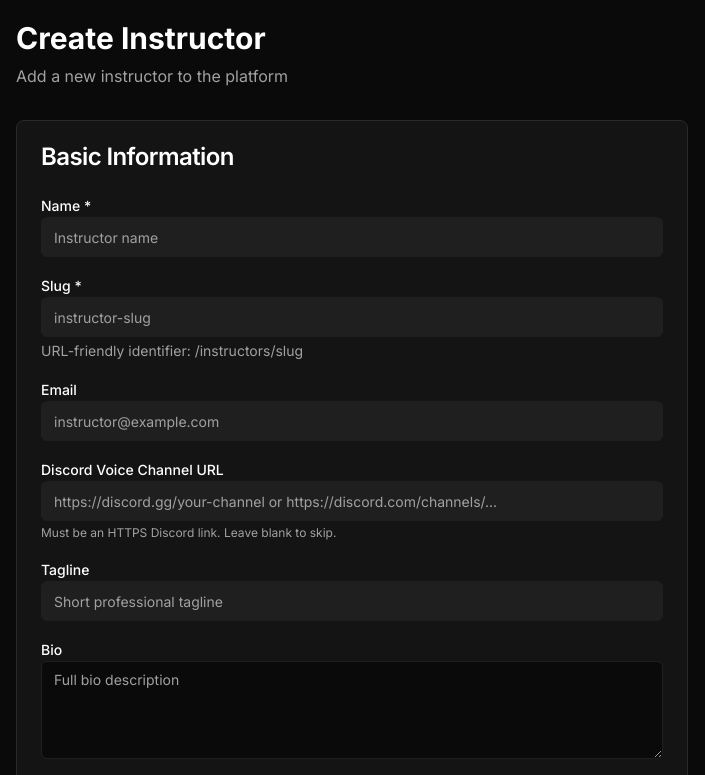
Test case: CreateInstructorPage › displays API error message when creation fails
The width and height of the screenshot is (705, 775).
Type "Jane Doe" into the field labelled "Name *" at (352, 237), box [41, 217, 663, 257]
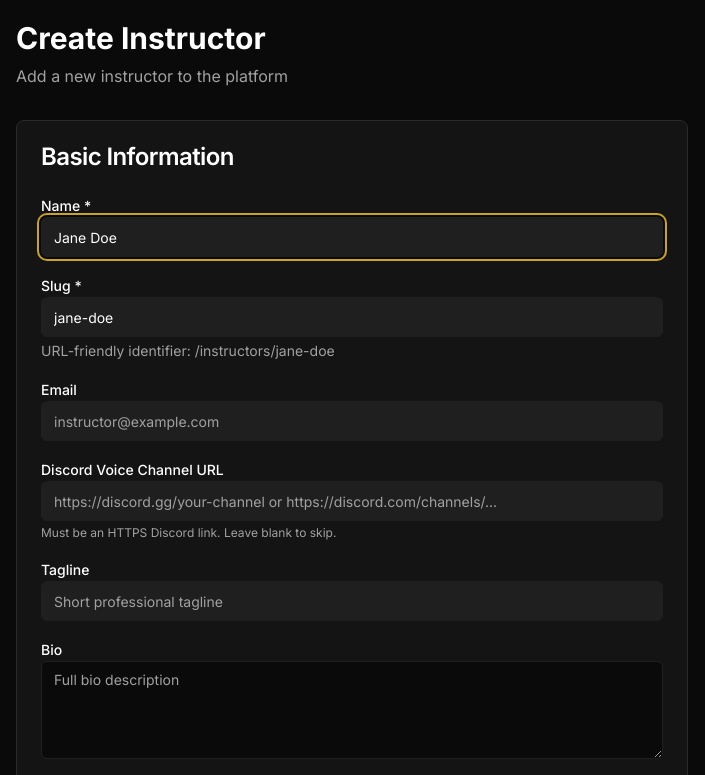
Type "https://discord.gg/example" into the field labelled "Discord Voice Channel URL" at (352, 501), box [41, 481, 663, 521]
(page scrolled)
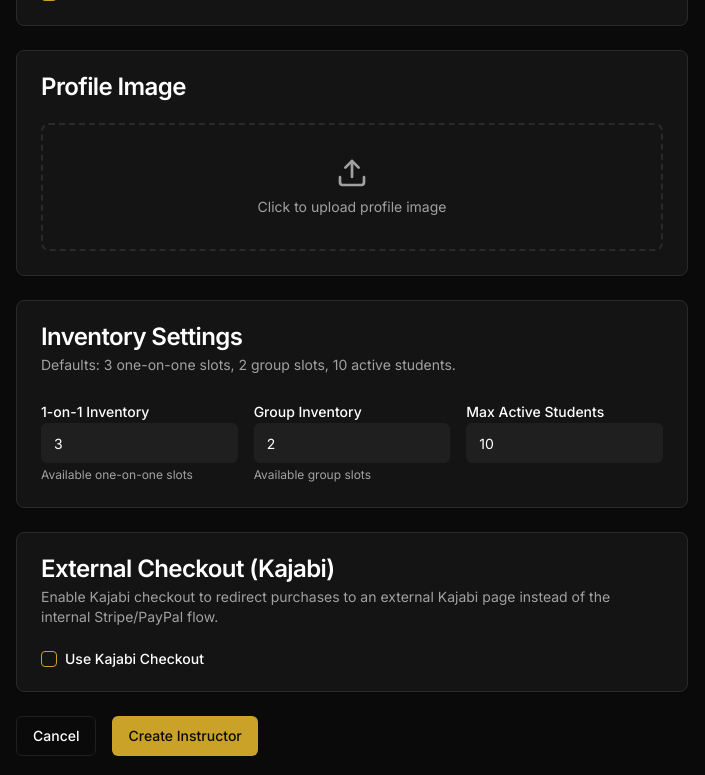
Click the button "Create Instructor" at (185, 736), box [112, 716, 258, 756]
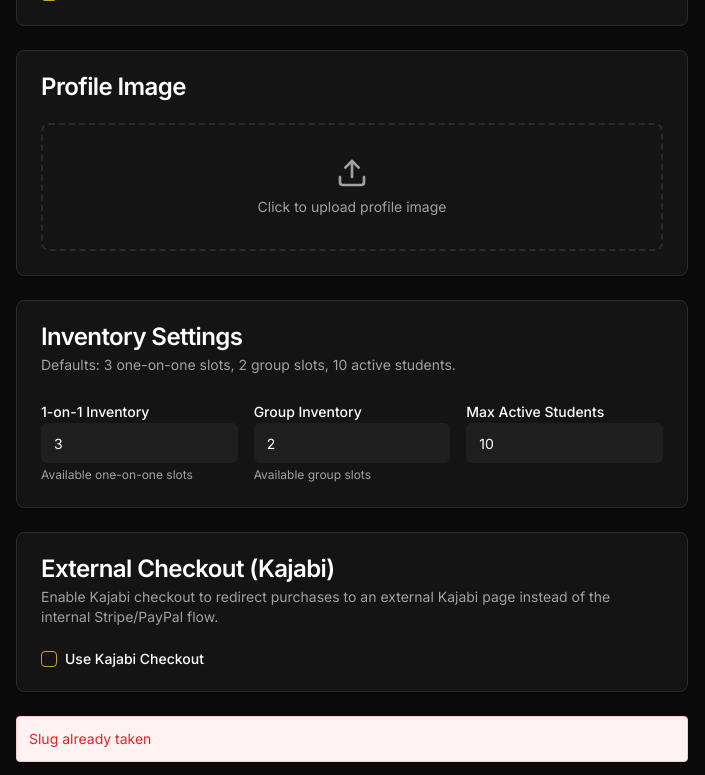
Expected: the text "Slug already taken" is shown, [16, 716, 688, 762]
